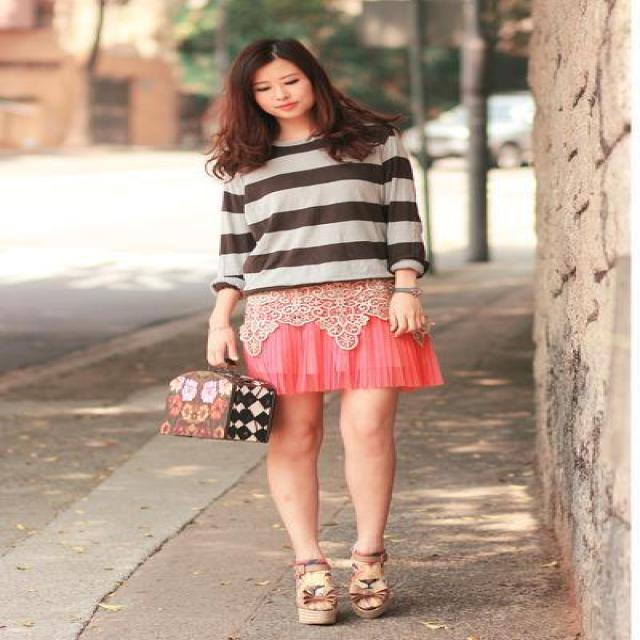bag: (160, 351, 285, 449)
jacket: (203, 150, 461, 294)
shoe: (296, 585, 333, 622)
skirt: (240, 280, 440, 394)
